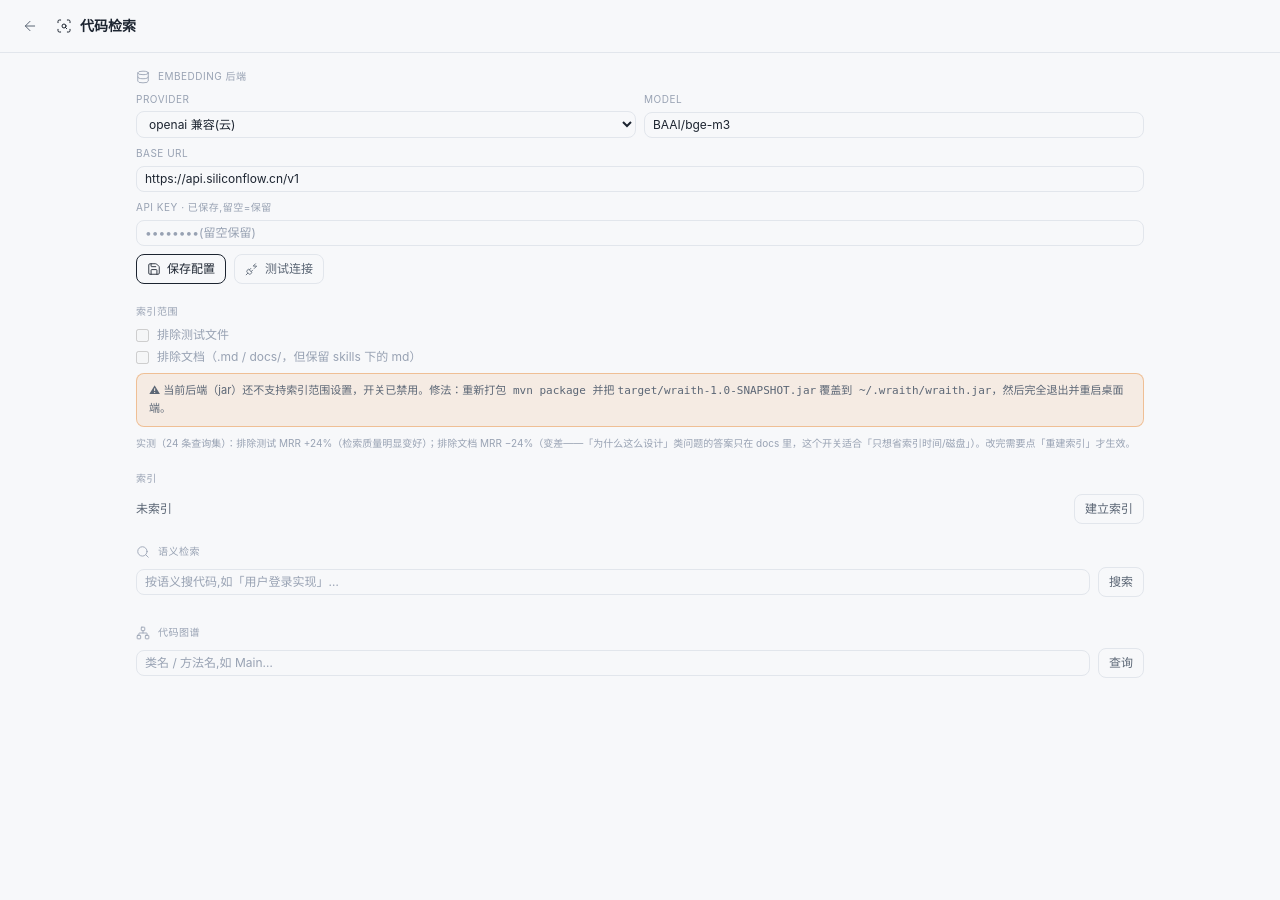
RagPanel 索引结果 › 全部成功 → 给成功提示,数字进明细块,不出现「不完整」字样
The width and height of the screenshot is (1280, 900).
Click the button "建立索引" at (1109, 509), box [1074,494,1144,524]
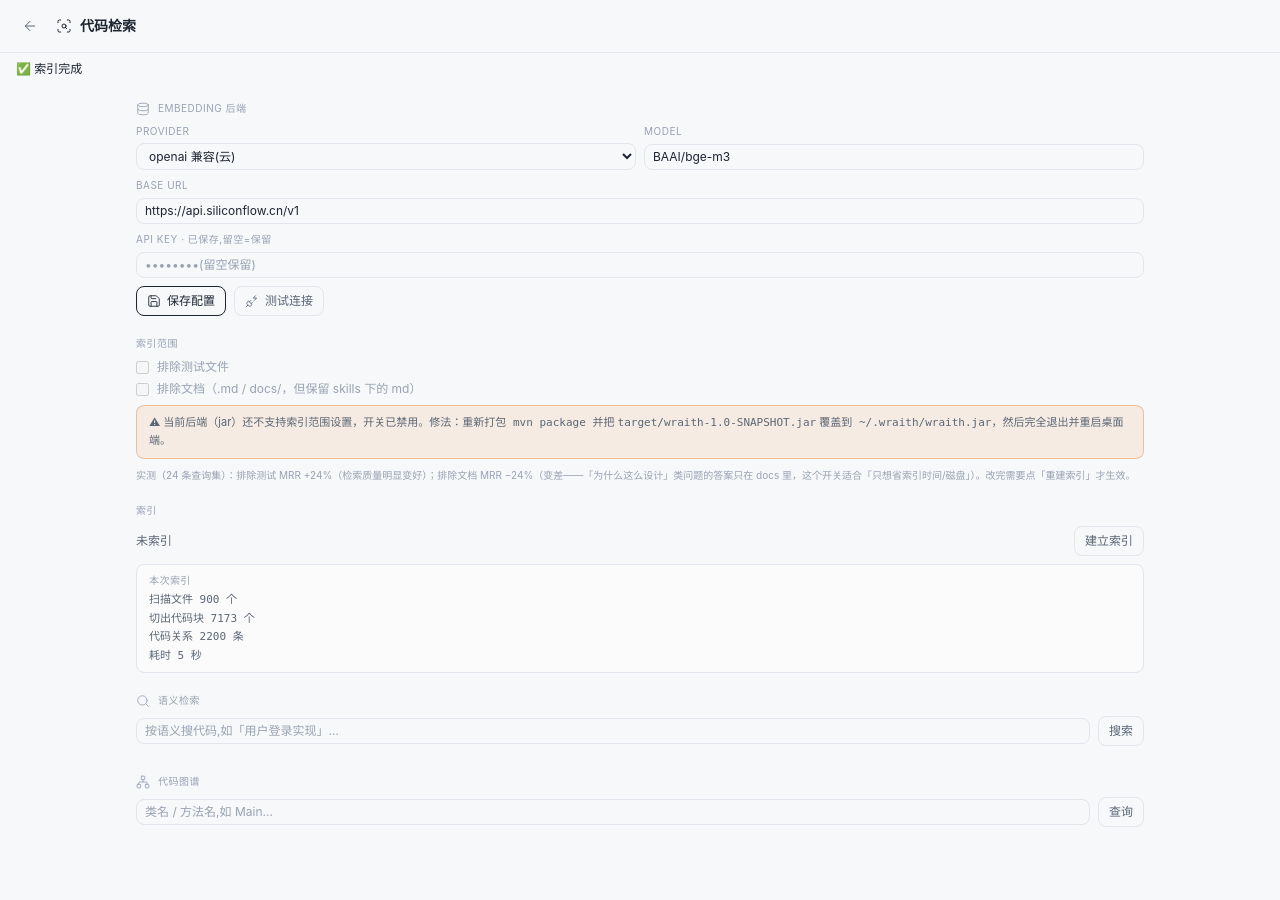
Now the text "✅ 索引完成" is shown, box [16,61,82,76]
Now the element with test id "rag-index-summary" shows "7173", box [149,612,255,624]
Now the element with test id "rag-index-summary" shows "2200", box [149,630,244,643]
